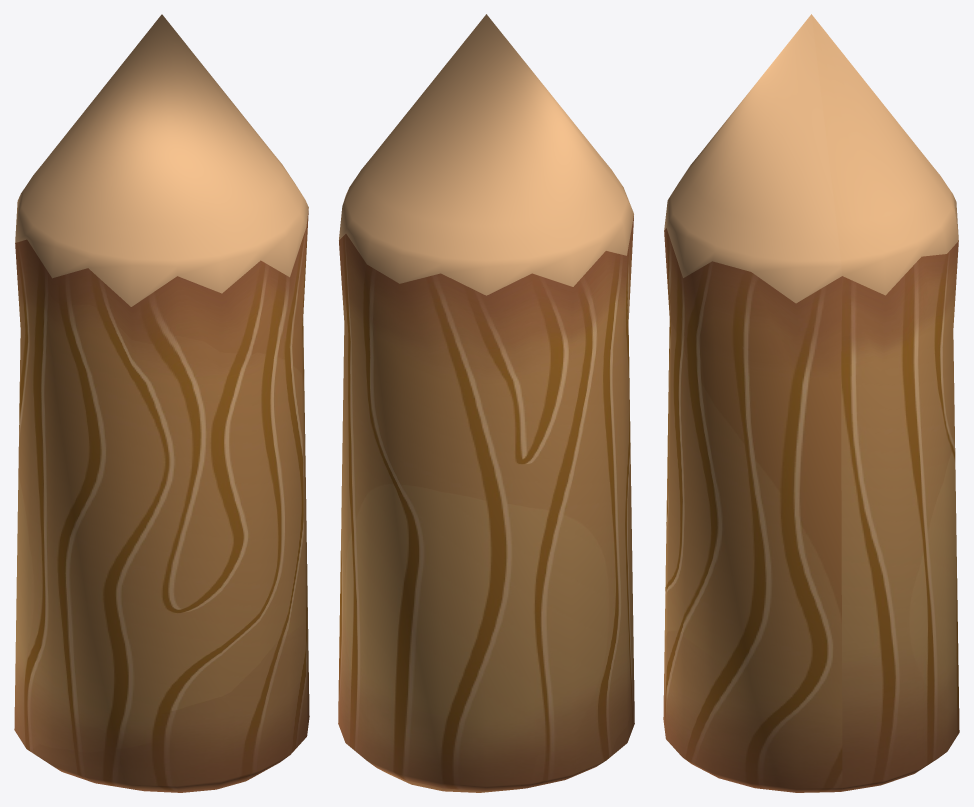
Rendered from spike.fbx.
3 views of the same model, side by side, from view 1: azimuth 30°, elevation 25°; view 2: azimuth 150°, elevation 25°; view 3: azimuth 270°, elevation 25° (orthographic).
Visible parts, largest first — view 1: Spiral.004; view 2: Spiral.004; view 3: Spiral.004.
Boxes of the visible parts, x1,y1,x2,y2 form: Spiral.004: (14, 14, 309, 792); Spiral.004: (338, 14, 634, 792); Spiral.004: (663, 14, 959, 792).
Bounding box in the file's own units: 35.37 × 96.42 × 35.37.
